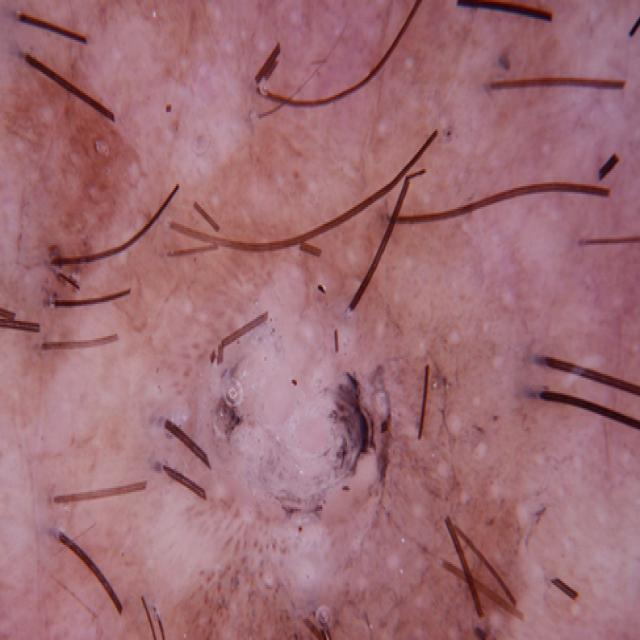Keratosis: (171, 254, 470, 640)
